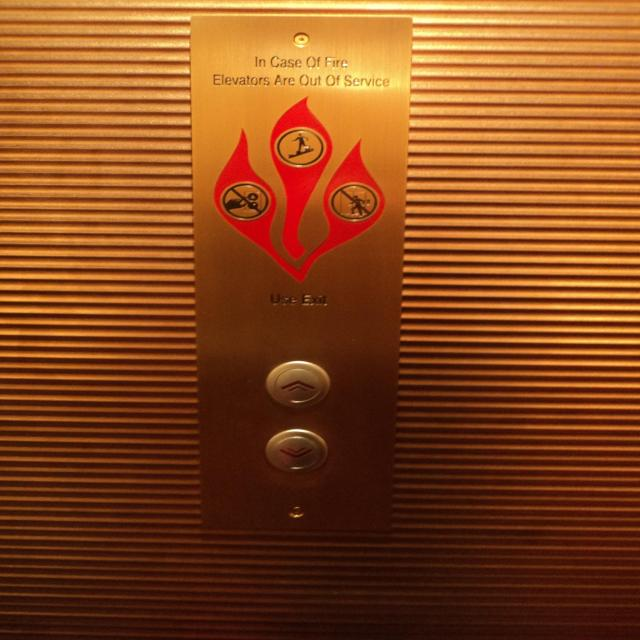down: (261, 425, 331, 480)
up: (262, 357, 332, 412)
